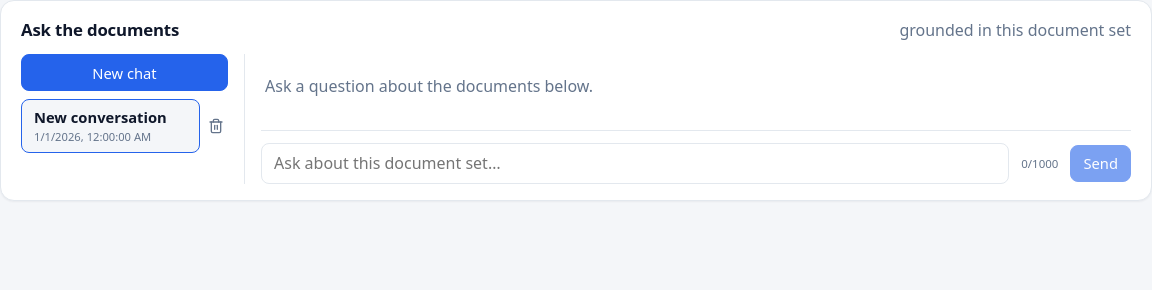
ChatPanel › renames the conversation from the first reply title
The image size is (1152, 290).
Expected: the text "Ask a question about the documents below." is shown, [265,75,593,97]
Step 1. Type "What dosage?" into the field with placeholder "Ask about this document set…" → (635,163), box [261,143,1009,184]
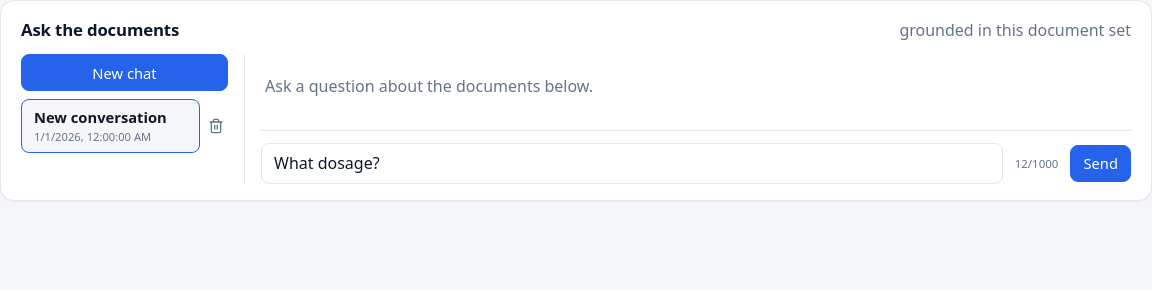
Step 2. Click the button "Send" → (1101,163), box [1070,145,1131,182]
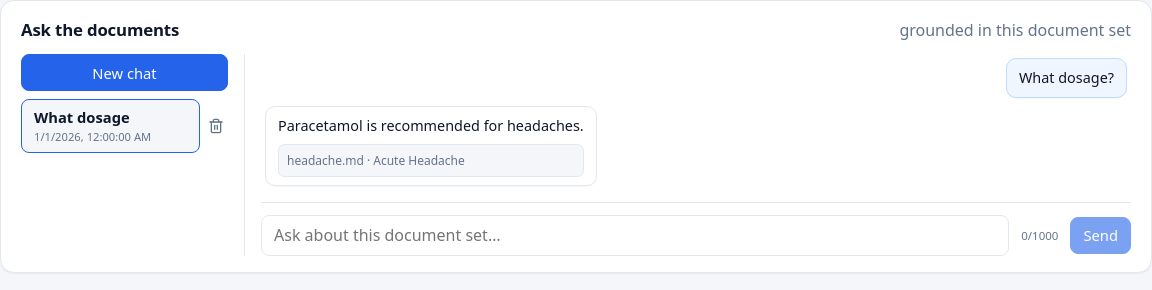
Expected: the text "What dosage" is shown, [34,106,130,128]
